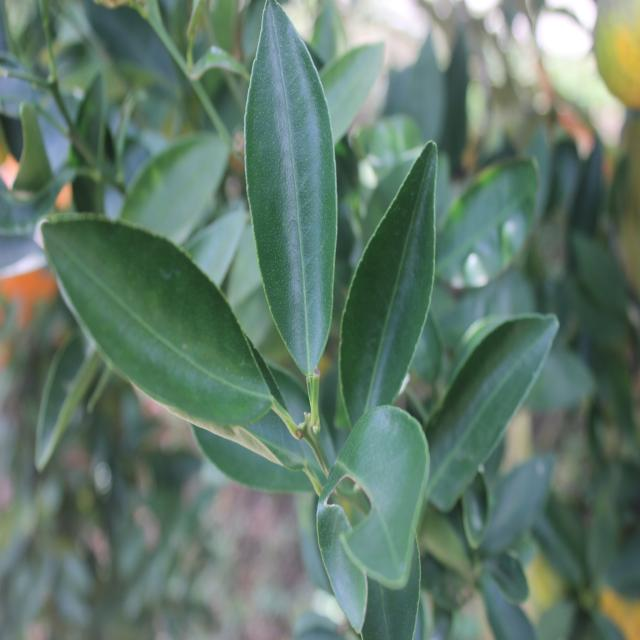healthy: (49, 217, 270, 434), (247, 2, 331, 365), (344, 140, 444, 418), (424, 310, 558, 500)
